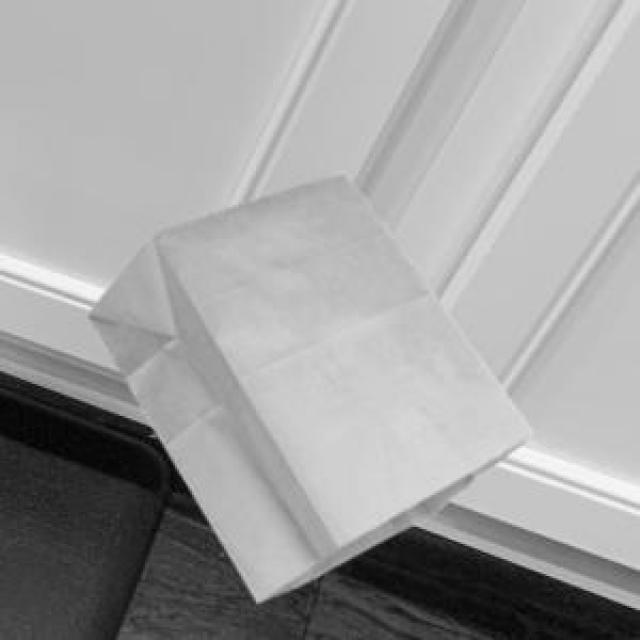paper: (85, 169, 529, 597)
